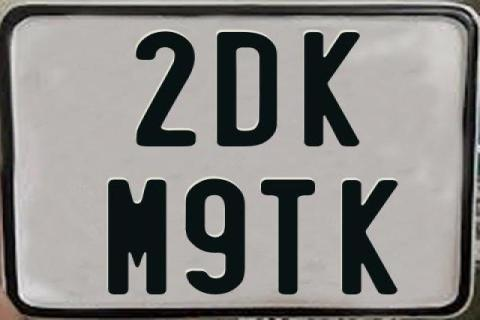0: (136, 29, 197, 150), (182, 179, 244, 297)
D: (216, 29, 282, 149)
K: (301, 30, 360, 148), (342, 179, 401, 293)
M: (105, 178, 163, 294)
T: (260, 178, 318, 294)
